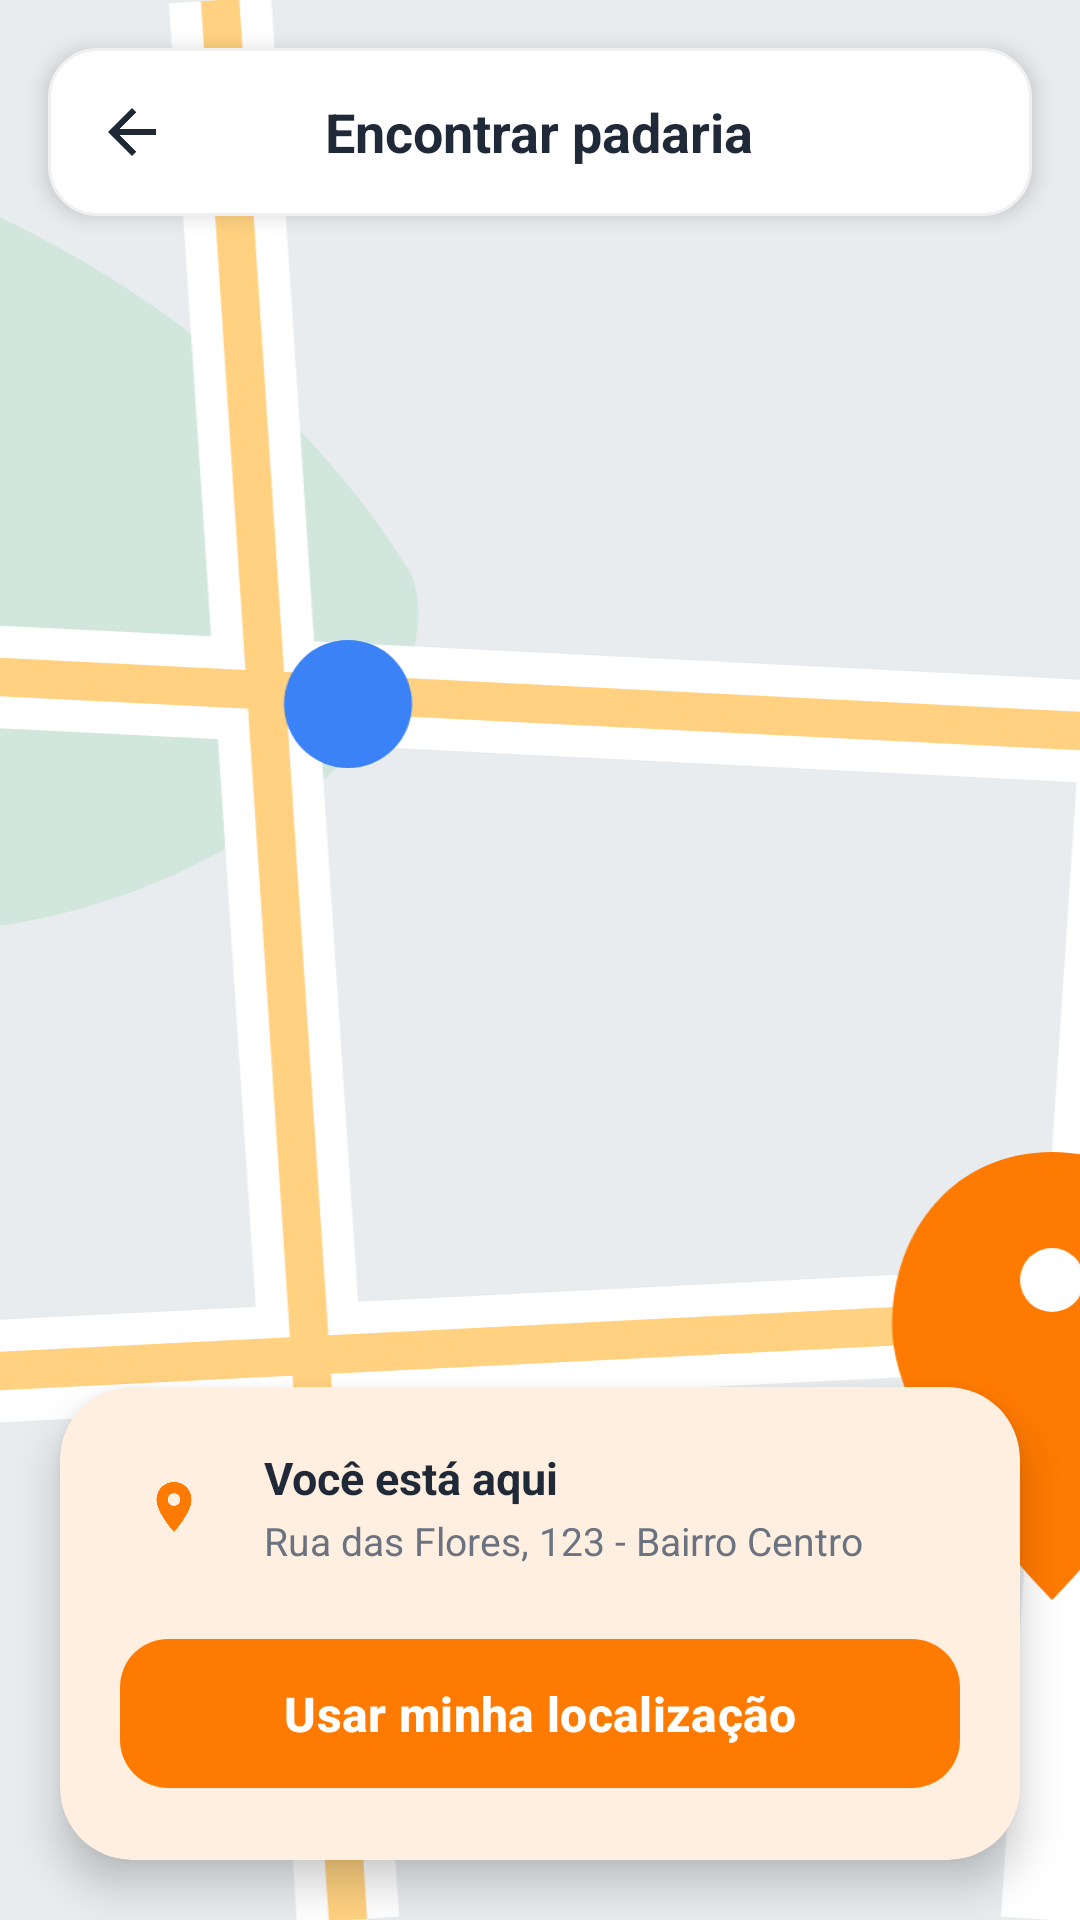

Screen size 1080*1920. Icon name, then its box in pixels as (x1, y1, x2, y2):
back: (108, 108, 156, 156)
location pin: (156, 1482, 192, 1532)
